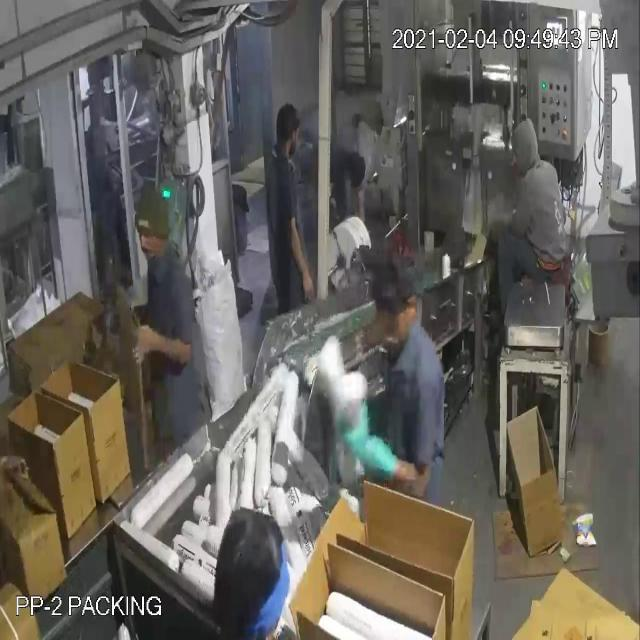No_Gloves: (38, 75, 370, 441)
